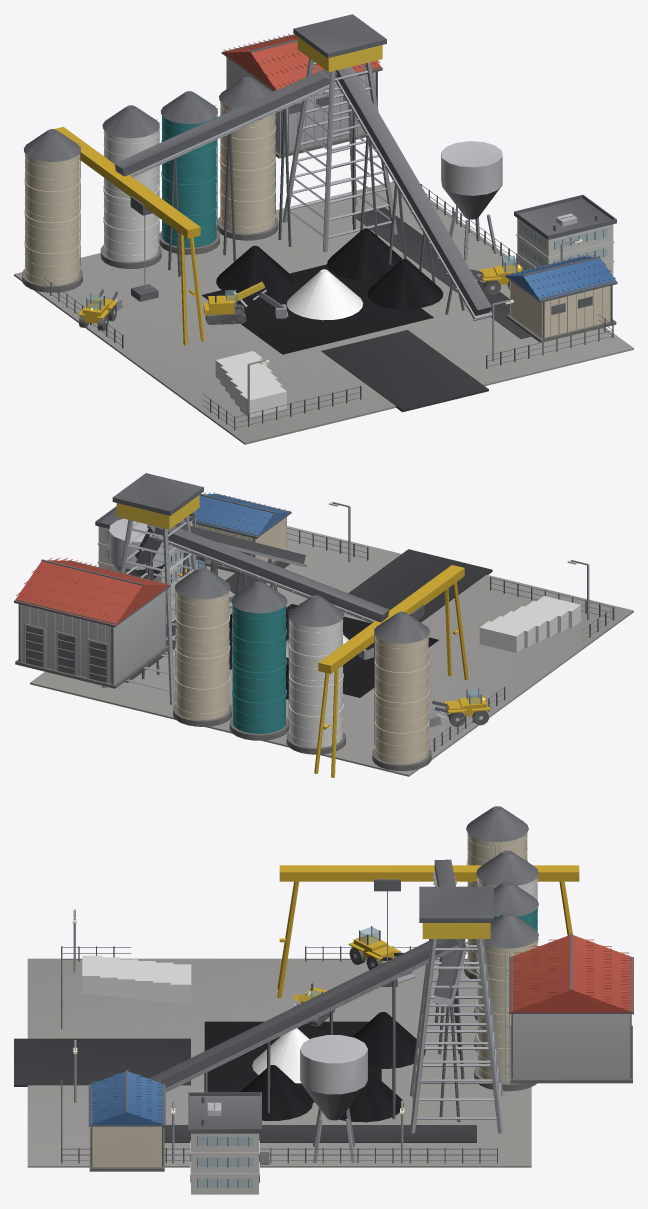
Rendered from Depot_P3.fbx.
3 renders of one model, top to bottom at view 1: azimuth 30°, elevation 25°; view 2: azimuth 150°, elevation 25°; view 3: azimuth 270°, elevation 25°, orthographic. The views are drawn at different scales.
Visible parts, largest first — view 1: Depot.Yard, Depot.Tower, Depot.Silo0, Depot.ConvMain, Depot.Shed2, Depot.Silo3, Depot.ConvB, Depot.Shed1, Depot.Silo1, Depot.Silo2, Depot.Office, Depot.Gantry (+10 smaller); view 2: Depot.Yard, Depot.Shed1, Depot.Silo0, Depot.Silo3, Depot.Silo2, Depot.Silo1, Depot.Tower, Depot.ConvB, Depot.Gantry, Depot.Shed2, Depot.Containers, Depot.ConvMain (+5 smaller); view 3: Depot.Yard, Depot.Shed1, Depot.Tower, Depot.ConvMain, Depot.Office, Depot.Shed2, Depot.Gantry, Depot.Hopper, Depot.Silo3, Depot.Containers, Depot.Silo0, Depot.Fence (+9 smaller).
Boxes of the visible parts, bbox=[...] form: Depot.Yard: bbox=[14, 182, 633, 444]; Depot.Tower: bbox=[282, 14, 397, 252]; Depot.Silo0: bbox=[22, 129, 82, 292]; Depot.ConvMain: bbox=[335, 66, 492, 320]; Depot.Shed2: bbox=[505, 255, 617, 342]; Depot.Silo3: bbox=[217, 77, 278, 240]; Depot.ConvB: bbox=[114, 69, 336, 276]; Depot.Shed1: bbox=[221, 33, 382, 158]; Depot.Silo1: bbox=[100, 105, 161, 268]; Depot.Silo2: bbox=[159, 91, 219, 254]; Depot.Office: bbox=[514, 194, 616, 275]; Depot.Gantry: bbox=[54, 126, 204, 345]; Depot.Yard: bbox=[30, 526, 633, 776]; Depot.Shed1: bbox=[14, 557, 170, 688]; Depot.Silo0: bbox=[372, 611, 431, 771]; Depot.Silo3: bbox=[173, 567, 232, 726]; Depot.Silo2: bbox=[229, 581, 288, 740]; Depot.Silo1: bbox=[286, 595, 345, 754]; Depot.Tower: bbox=[102, 473, 203, 704]; Depot.ConvB: bbox=[152, 526, 389, 623]; Depot.Gantry: bbox=[314, 565, 468, 777]; Depot.Shed2: bbox=[192, 492, 291, 575]; Depot.Containers: bbox=[479, 596, 580, 652]; Depot.ConvMain: bbox=[148, 523, 307, 595]; Depot.Yard: bbox=[14, 958, 531, 1167]; Depot.Shed1: bbox=[509, 933, 633, 1083]; Depot.Tower: bbox=[410, 886, 503, 1133]; Depot.ConvMain: bbox=[149, 939, 458, 1119]; Depot.Office: bbox=[188, 1092, 269, 1194]; Depot.Shed2: bbox=[88, 1070, 165, 1171]; Depot.Gantry: bbox=[277, 865, 579, 998]; Depot.Hopper: bbox=[300, 1035, 367, 1162]; Depot.Silo3: bbox=[474, 912, 538, 1091]; Depot.Containers: bbox=[82, 955, 191, 1002]; Depot.Silo0: bbox=[464, 806, 528, 981]; Depot.Fence: bbox=[61, 946, 497, 1163].
Bounding box in the file's own units: 8423 × 3465 × 9104.
